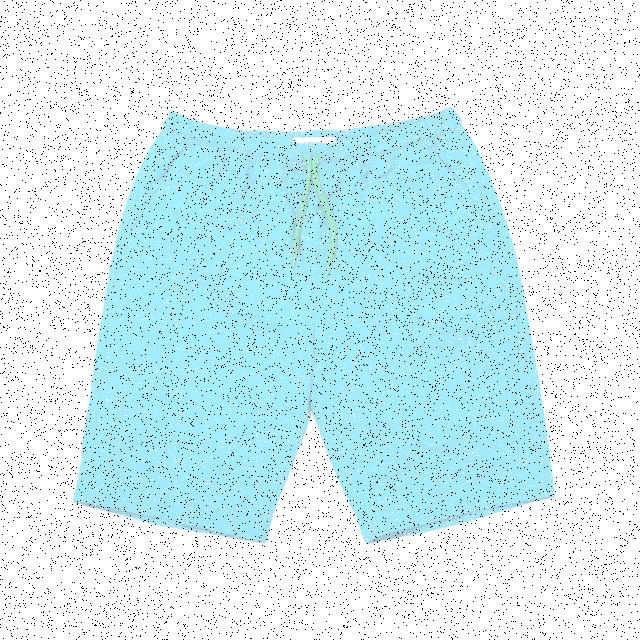Blouse_deep: (78, 119, 554, 513)
